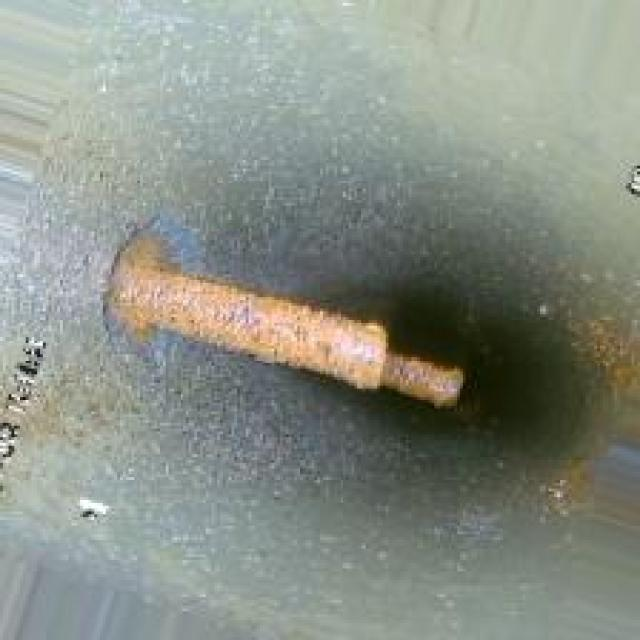ferrule: (88, 223, 483, 406)
